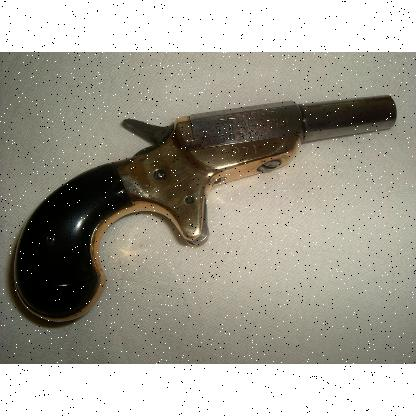gun: (13, 95, 397, 321)
